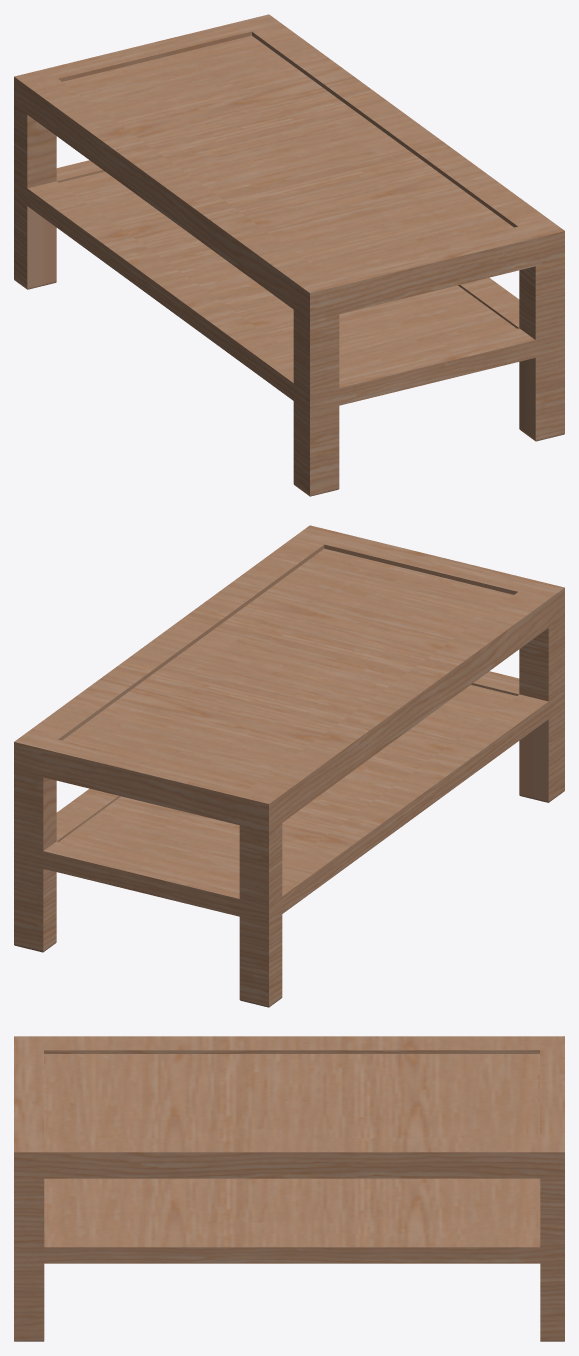
The model's file is TxtrCoffeeTable.fbx.
The picture shows the model from 3 angles, top to bottom: view 1: azimuth 30°, elevation 25°; view 2: azimuth 150°, elevation 25°; view 3: azimuth 270°, elevation 25°; orthographic projection. The views are drawn at different scales.
Visible parts, largest first — view 1: pCube3; view 2: pCube3; view 3: pCube3.
Boxes of the visible parts, left/top/right/bottom form: pCube3: left=14, top=14, right=564, bottom=496; pCube3: left=14, top=525, right=564, bottom=1007; pCube3: left=14, top=1036, right=564, bottom=1341.
Size of the model in its own units: 339 by 259 by 681.
